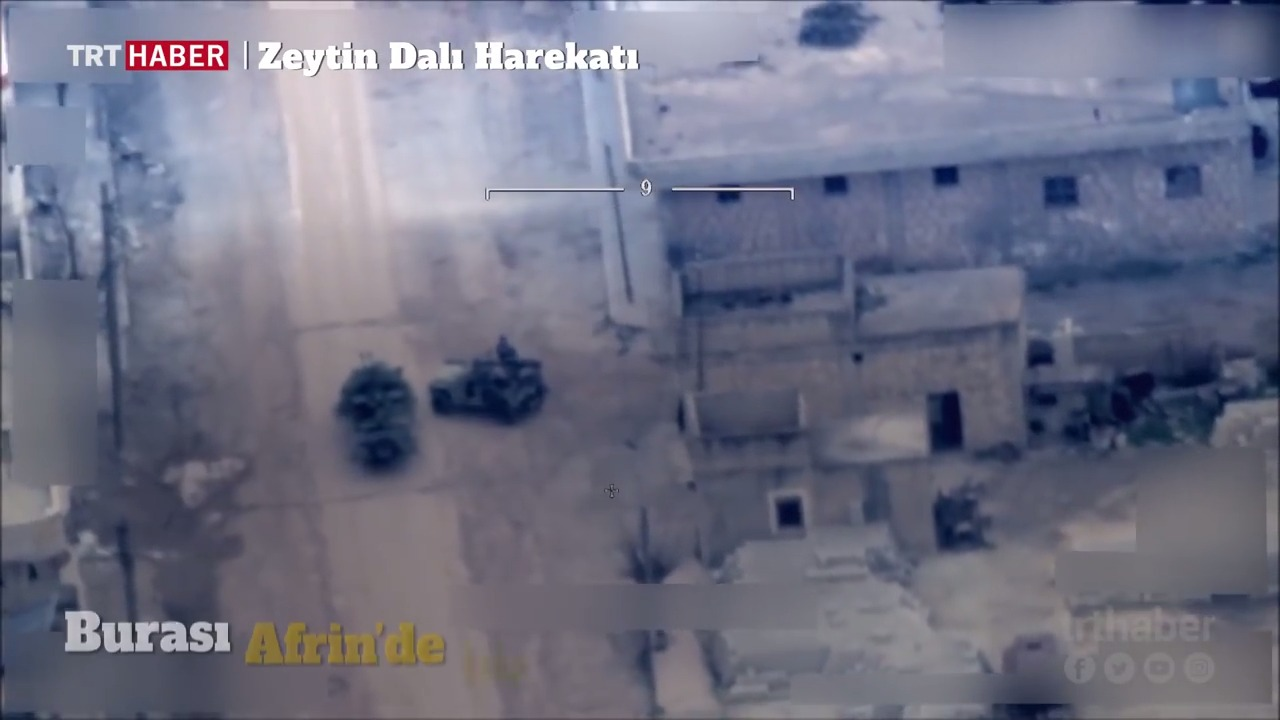arac: (338, 349, 411, 465), (423, 359, 555, 421)
bina: (674, 249, 1055, 484)
insan: (493, 329, 518, 354)
